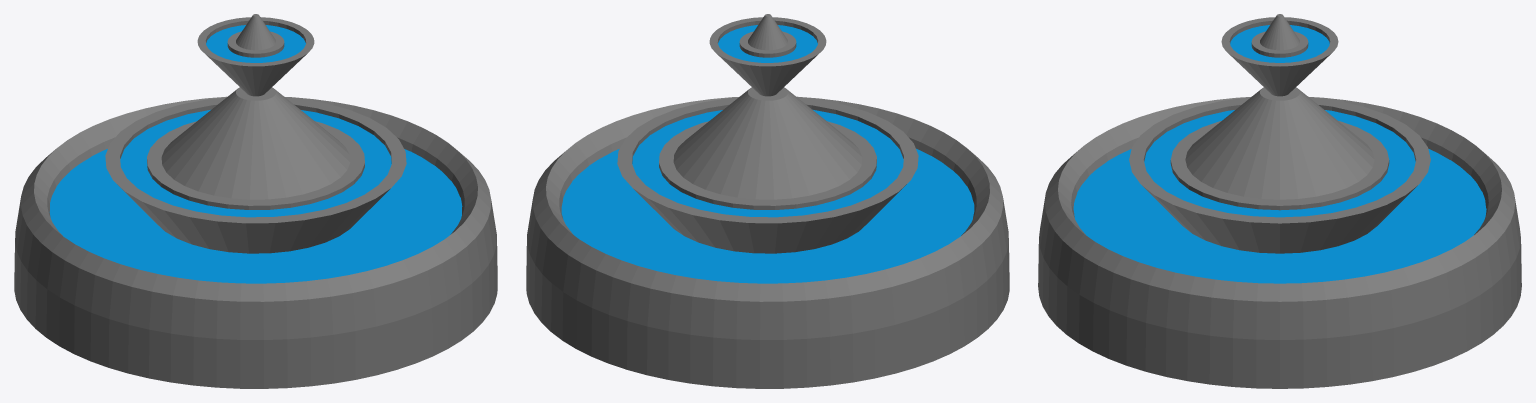
The model's file is fonte.fbx.
The picture shows the model from 3 angles, left to right: view 1: azimuth 30°, elevation 25°; view 2: azimuth 150°, elevation 25°; view 3: azimuth 270°, elevation 25°; orthographic projection.
Visible parts, largest first — view 1: Circle.004; view 2: Circle.004; view 3: Circle.004.
Boxes of the visible parts, <box> form: Circle.004: <box>14,14,497,388</box>; Circle.004: <box>526,14,1009,388</box>; Circle.004: <box>1038,14,1521,388</box>.
Bounding box in the file's own units: 458 × 284 × 458.
